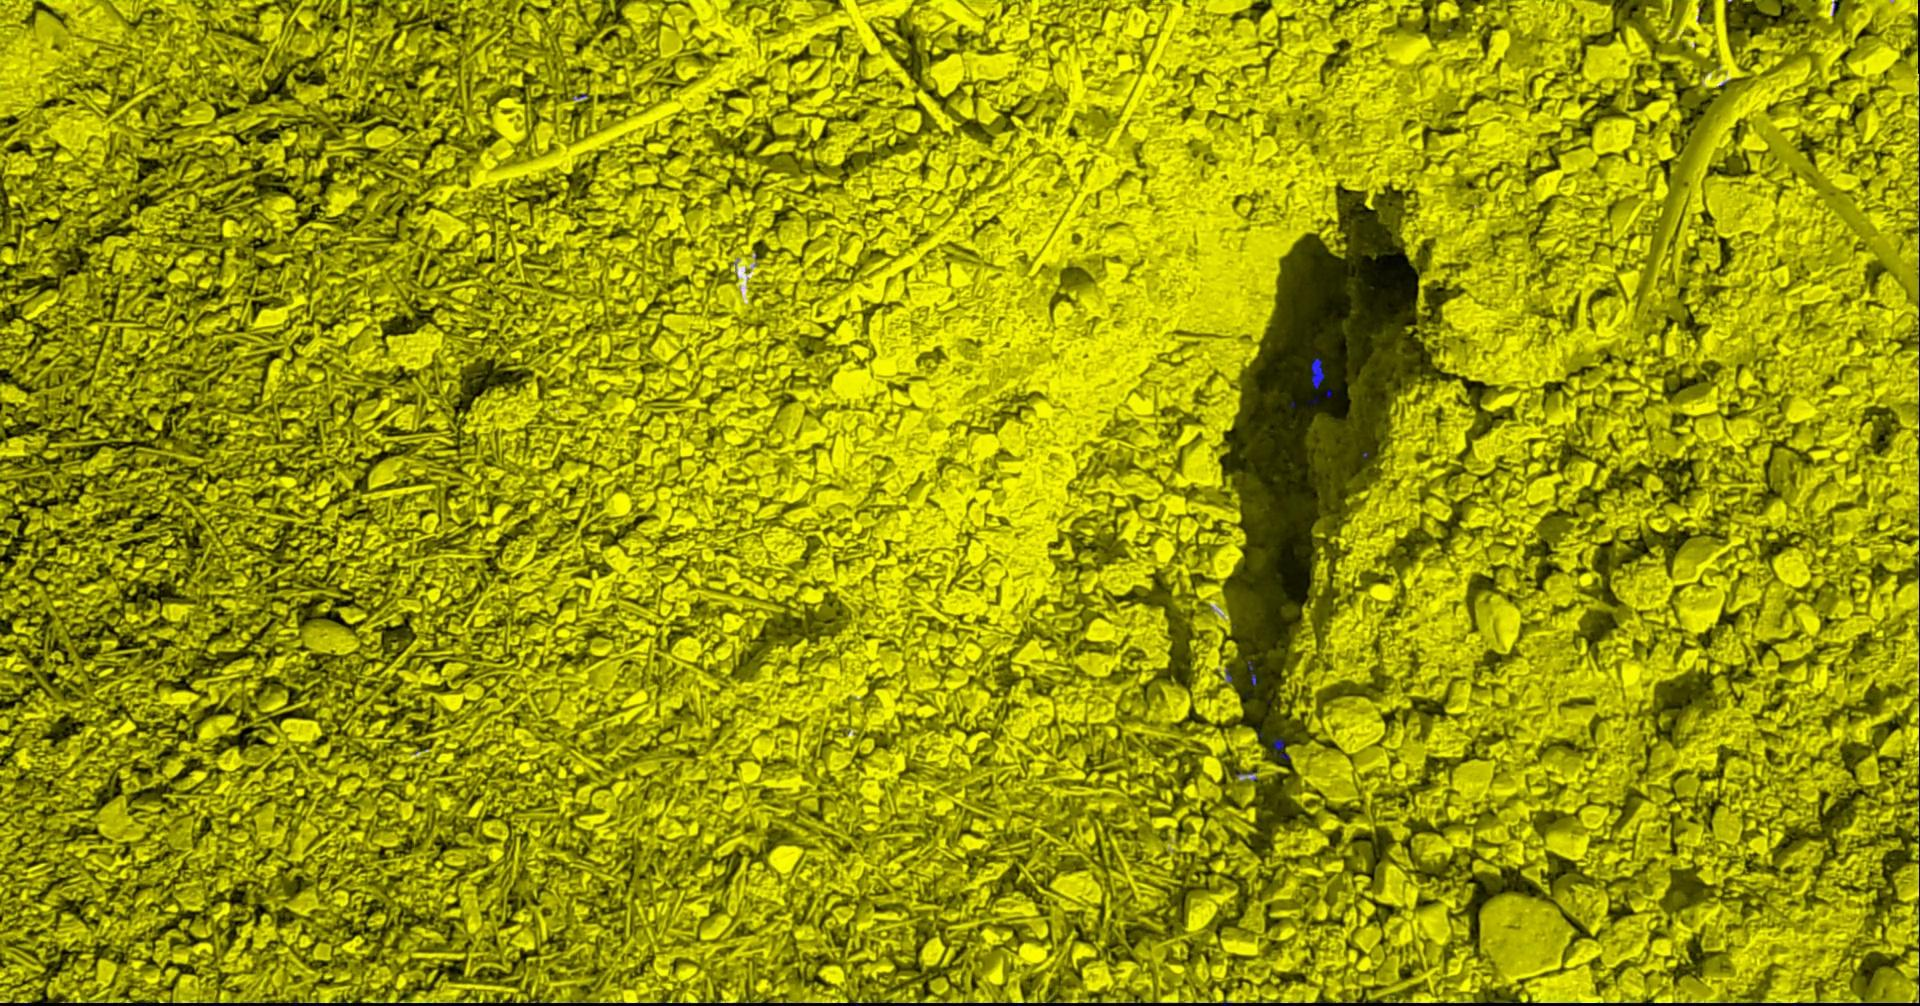ant: (1312, 357, 1326, 387), (1274, 738, 1291, 760)
